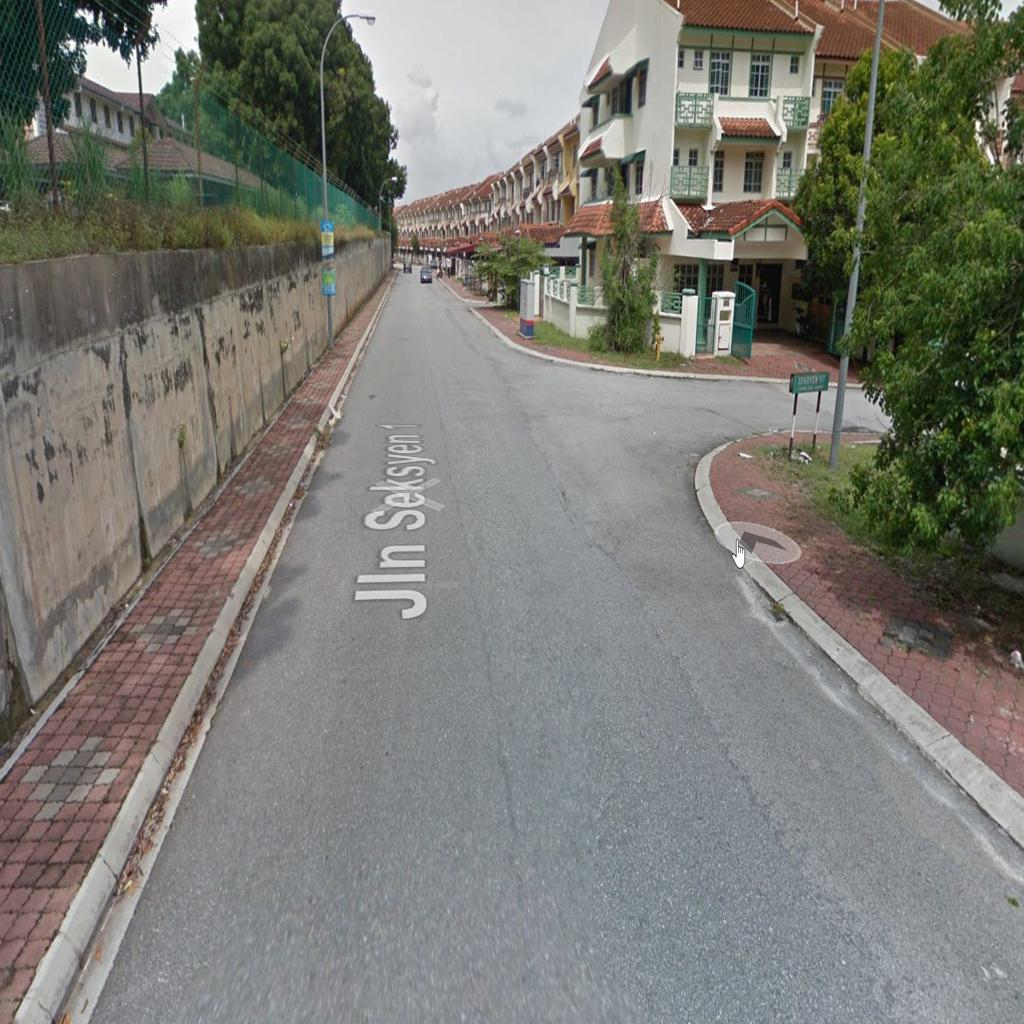Junction: (521, 314, 863, 517)
